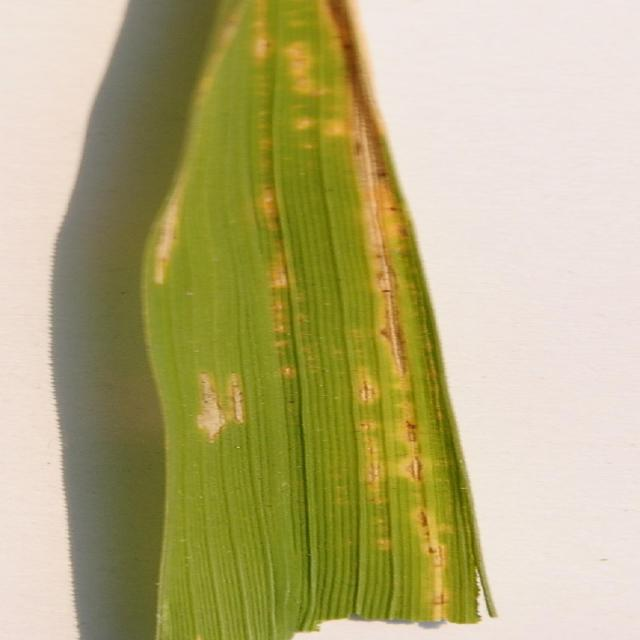Bacterial leaf blight: (282, 38, 412, 355), (358, 370, 459, 622), (253, 174, 307, 387), (151, 129, 210, 285), (184, 369, 262, 446)
